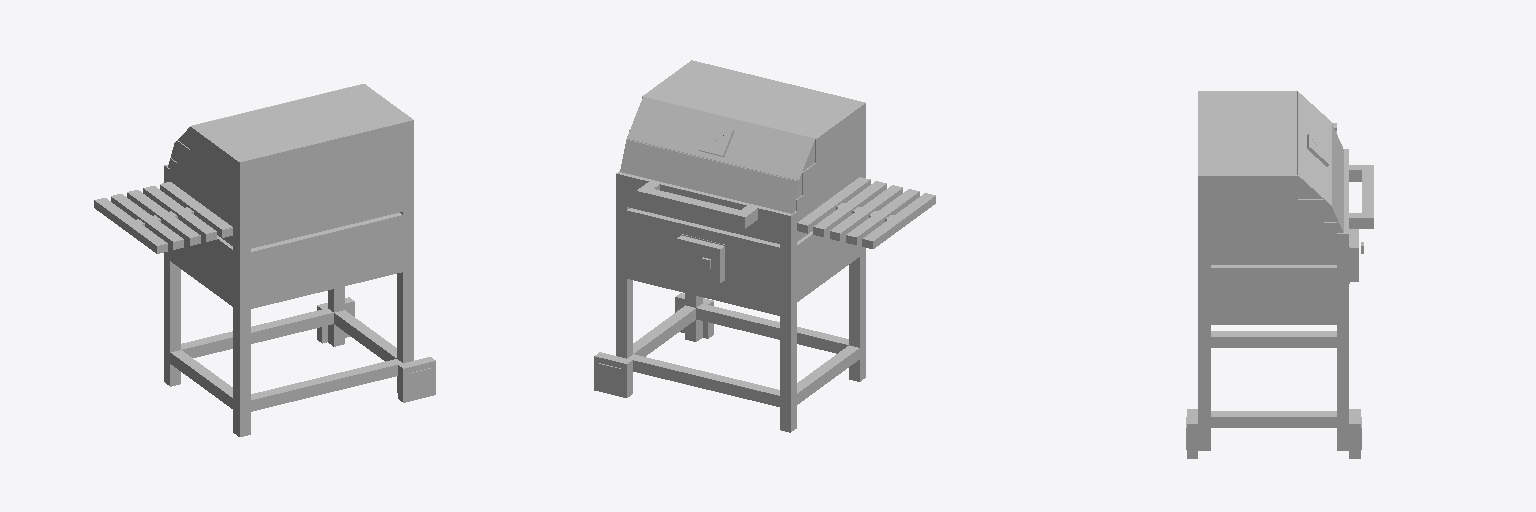
Rendered from barbecue_brown.obj.
3 views of the same model, side by side, from view 1: azimuth 30°, elevation 25°; view 2: azimuth 150°, elevation 25°; view 3: azimuth 270°, elevation 25° (orthographic).
Visible parts, largest first — view 1: cube.003; view 2: cube.003; view 3: cube.003.
Part boxes in pixels (bbox=[...]): cube.003: bbox=[94, 84, 435, 436]; cube.003: bbox=[594, 60, 935, 432]; cube.003: bbox=[1186, 91, 1373, 458].
Size of the model in its own units: 1.53 by 1.51 by 0.9375.